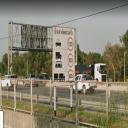speed_limit_100: (66, 53, 74, 68)
speed_limit_120: (66, 36, 75, 52)
speed_limit_80: (67, 68, 74, 80)
